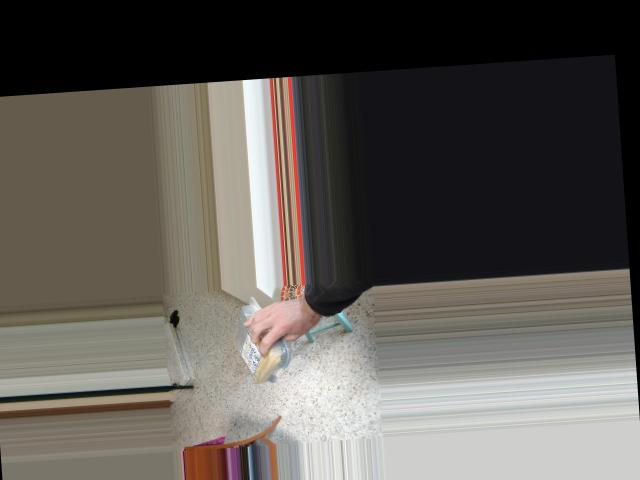cheese: (235, 295, 283, 384)
